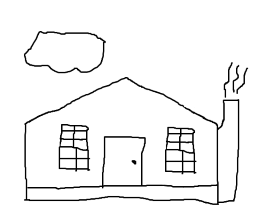closed_window: (54, 118, 95, 175), (162, 126, 198, 177)
clouds: (16, 17, 110, 79)
door: (97, 132, 149, 192)
single_line_roof: (18, 74, 224, 127)
smoking_chimney: (206, 53, 257, 140)
wall: (18, 117, 223, 205)
